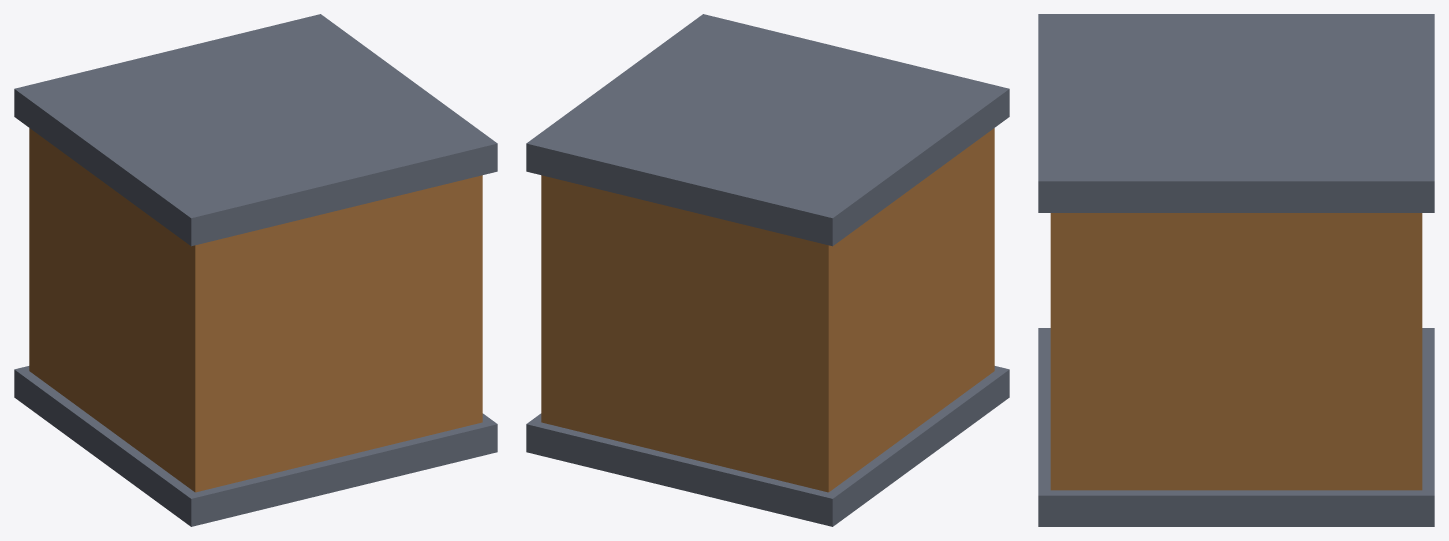
File: crate.glb
3 views of the same model, side by side, from view 1: azimuth 30°, elevation 25°; view 2: azimuth 150°, elevation 25°; view 3: azimuth 270°, elevation 25° (orthographic). The views are drawn at different scales.
Bounding box in the file's own units: 1.6 × 1.54 × 1.6.
